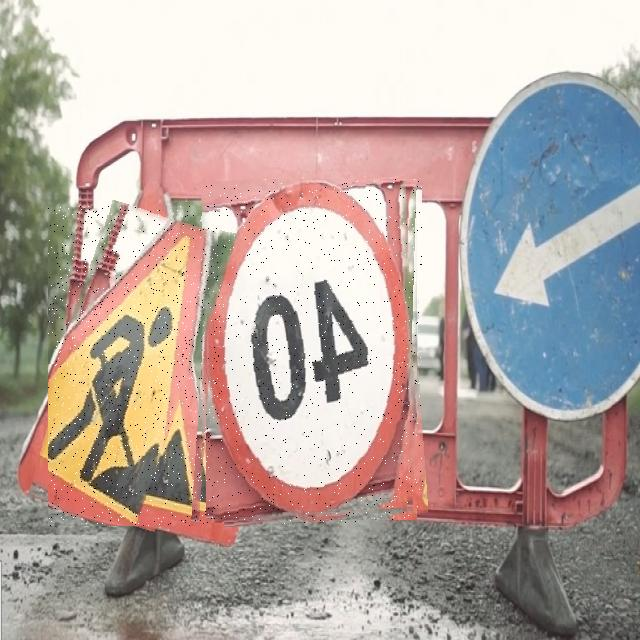roadwork: (48, 206, 220, 526)
speed limit 40: (206, 179, 423, 524)
